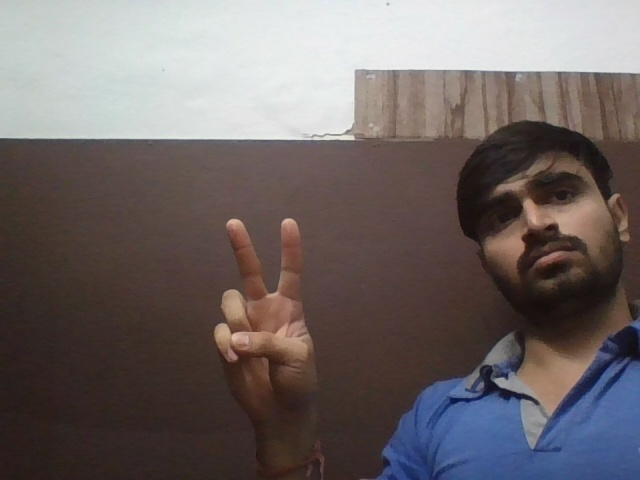V: (206, 207, 336, 416)
